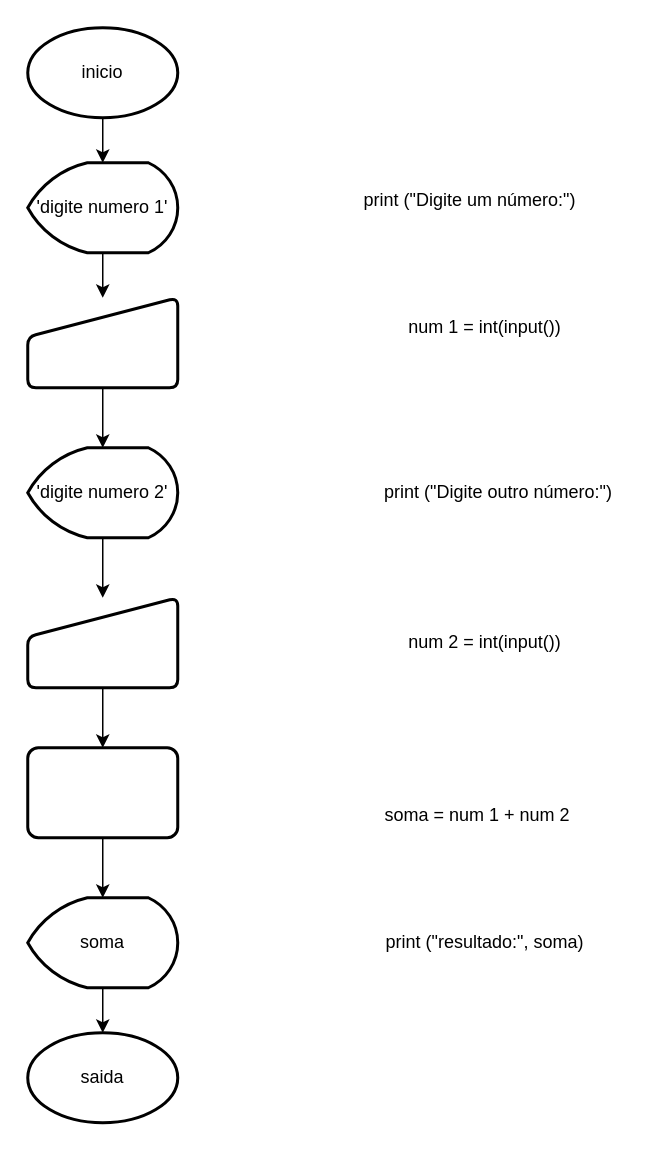
Image size: 651x1149. Some labels were removed from this diagram. Here are the shapes that lost their labels. From the top down, the centre of each, then its label:
the point at 102,342: num 1 (int)
the point at 102,642: num 2 (int)
the point at 102,792: num 1 + num 2
